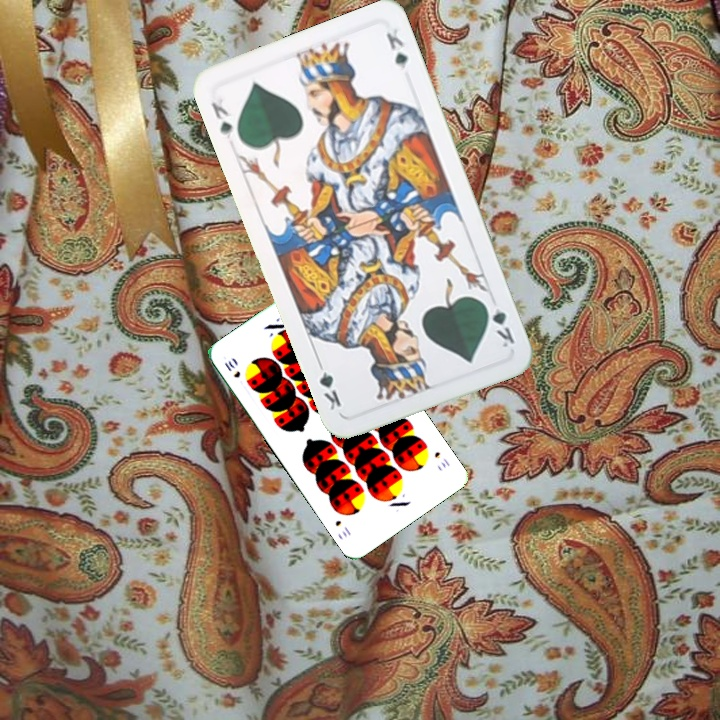GK: (480, 298, 518, 350), (207, 98, 235, 141)
S10: (220, 356, 243, 380), (430, 448, 453, 471)
